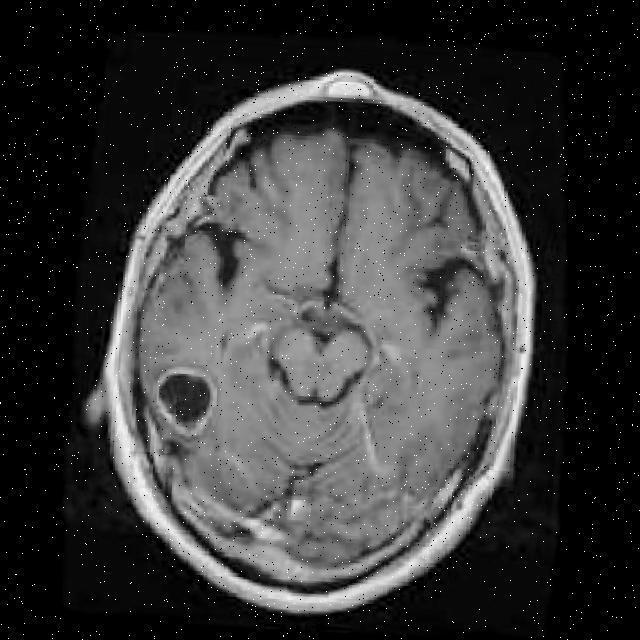MCI: (144, 348, 218, 464)
